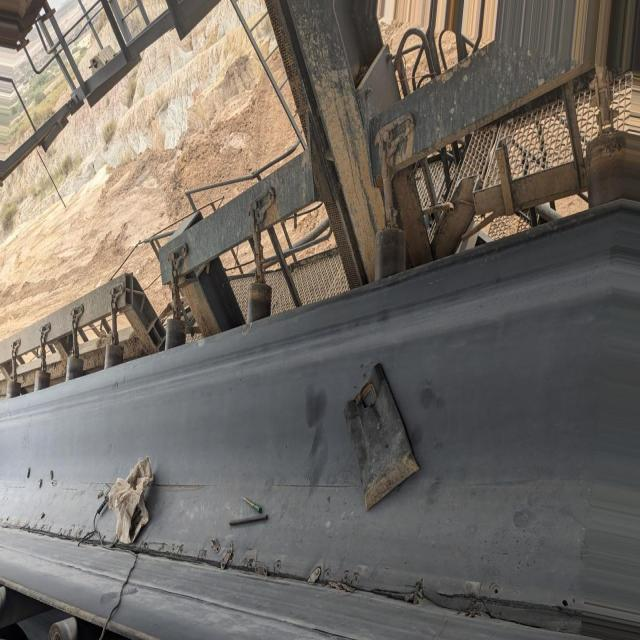Other Objects: (343, 360, 423, 513), (93, 451, 166, 552), (98, 552, 142, 640), (222, 490, 278, 542)
Roller: (372, 230, 417, 280), (0, 583, 49, 622), (245, 279, 280, 320), (48, 611, 85, 635), (165, 316, 194, 346), (103, 337, 130, 365), (62, 348, 88, 373), (9, 377, 25, 399)
Tear: (141, 552, 622, 640), (9, 518, 115, 543)
